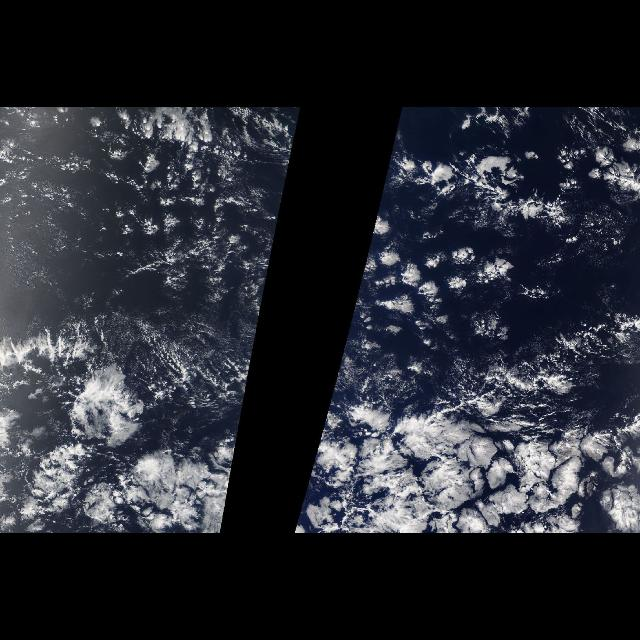Flower: (292, 114, 636, 534), (8, 114, 300, 534)
